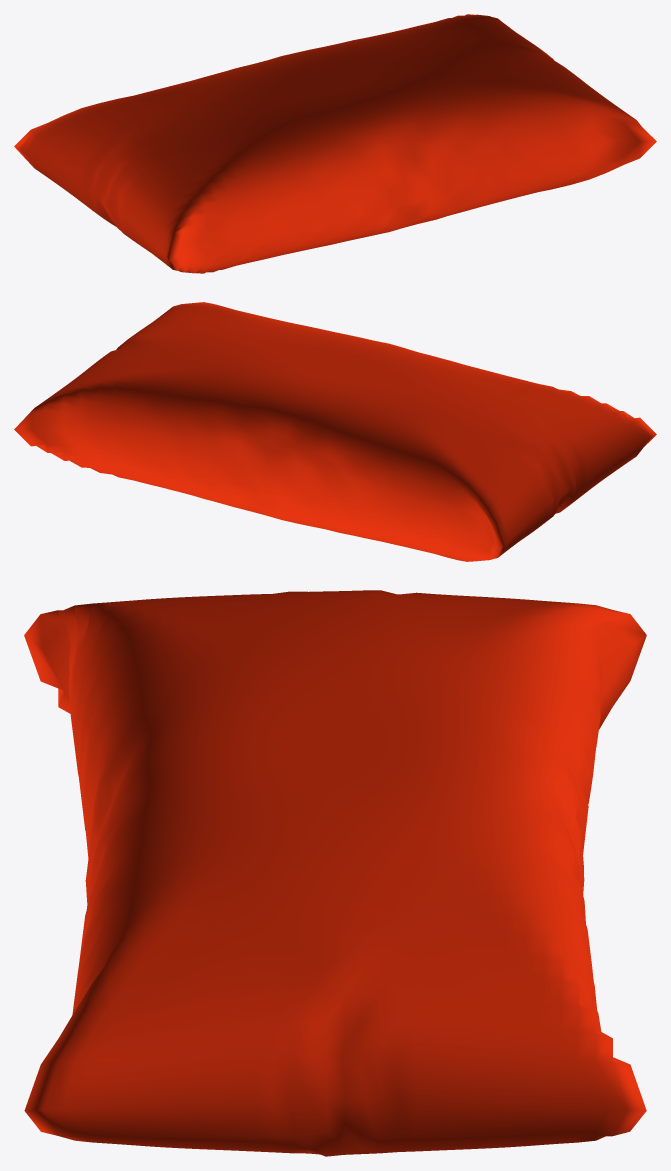
File: Pillow 11.fbx
3 views of the same model, one above another, from view 1: azimuth 30°, elevation 25°; view 2: azimuth 150°, elevation 25°; view 3: azimuth 270°, elevation 25° (orthographic). The views are drawn at different scales.
Parts seen in each view (by area): view 1: Node 0; view 2: Node 0; view 3: Node 0.
Part boxes in pixels (x1,y1,x2,y2): Node 0: [14, 14, 656, 273]; Node 0: [14, 302, 656, 561]; Node 0: [24, 590, 646, 1156].
Size of the model in its own units: 0.5046 by 0.2315 by 0.9118.
